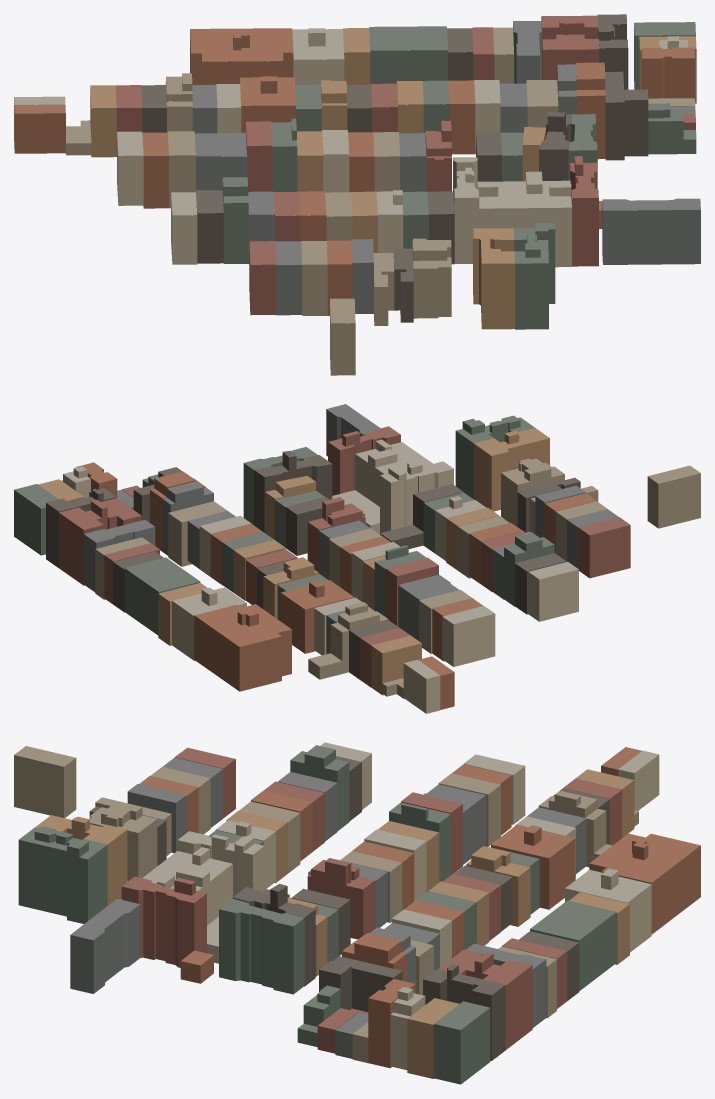
File: tile-6_3.glb
The picture shows the model from 3 angles, top to bottom: view 1: azimuth 30°, elevation 25°; view 2: azimuth 150°, elevation 25°; view 3: azimuth 270°, elevation 25°; orthographic projection. The views are drawn at different scales.
Parts seen in each view (by area): view 1: wall, roof; view 2: wall, roof; view 3: wall, roof.
Boxes of the visible parts, x1=… form: wall: x1=14, y1=15, x2=700, y2=375; roof: x1=14, y1=14, x2=700, y2=323; wall: x1=14, y1=409, x2=700, y2=713; roof: x1=14, y1=404, x2=700, y2=688; wall: x1=14, y1=750, x2=700, y2=1084; roof: x1=14, y1=742, x2=700, y2=1037.
Size of the model in its own units: 205 by 28.86 by 206.
